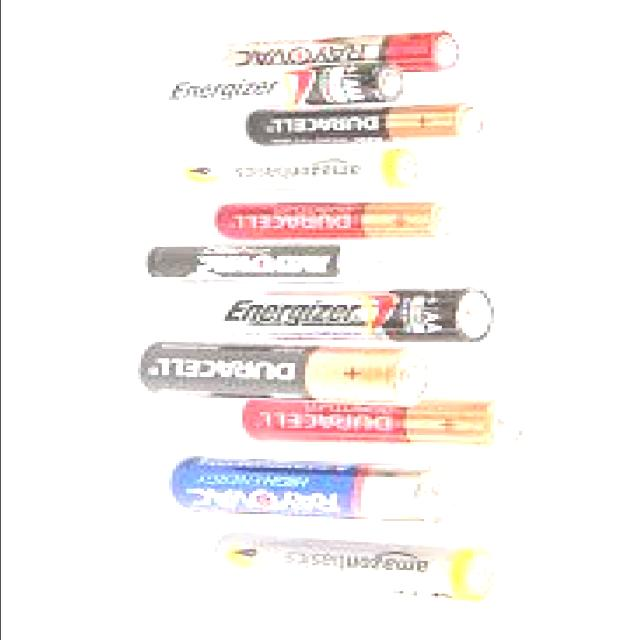AA: (213, 528, 500, 603), (172, 454, 462, 524), (140, 340, 434, 400), (209, 284, 496, 342), (245, 393, 524, 447)
AAA: (213, 15, 472, 85), (152, 56, 411, 114), (232, 94, 494, 150), (147, 240, 395, 284), (175, 147, 423, 190), (216, 200, 462, 240)
